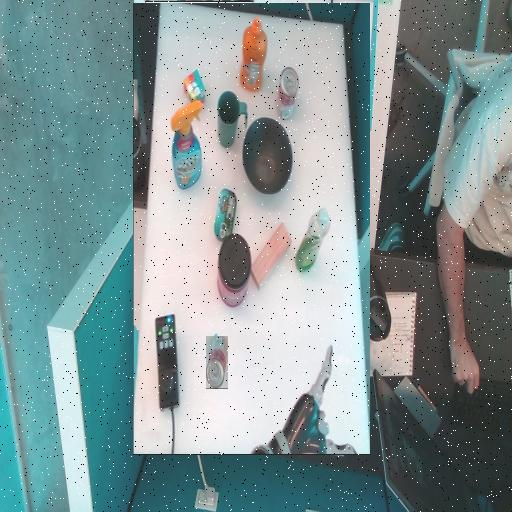bowl: (212, 262, 261, 337)
cleanser: (174, 200, 209, 234)
coffee_can: (254, 149, 286, 221)
jaco: (145, 3, 253, 108)
meat_can: (268, 216, 289, 267)
mug: (257, 309, 286, 364)
mustard_bottle: (238, 389, 263, 413)
rubik: (300, 353, 320, 387)
soup_can: (206, 336, 227, 387)
windex: (302, 268, 333, 355)
wooden_block: (213, 166, 253, 232)
workspace: (134, 3, 370, 454)
